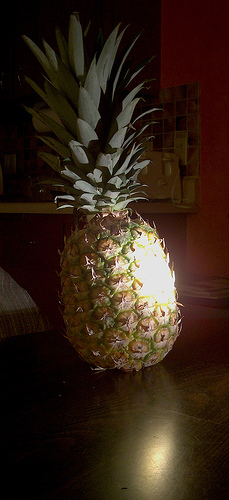pineapple: (20, 13, 182, 368)
